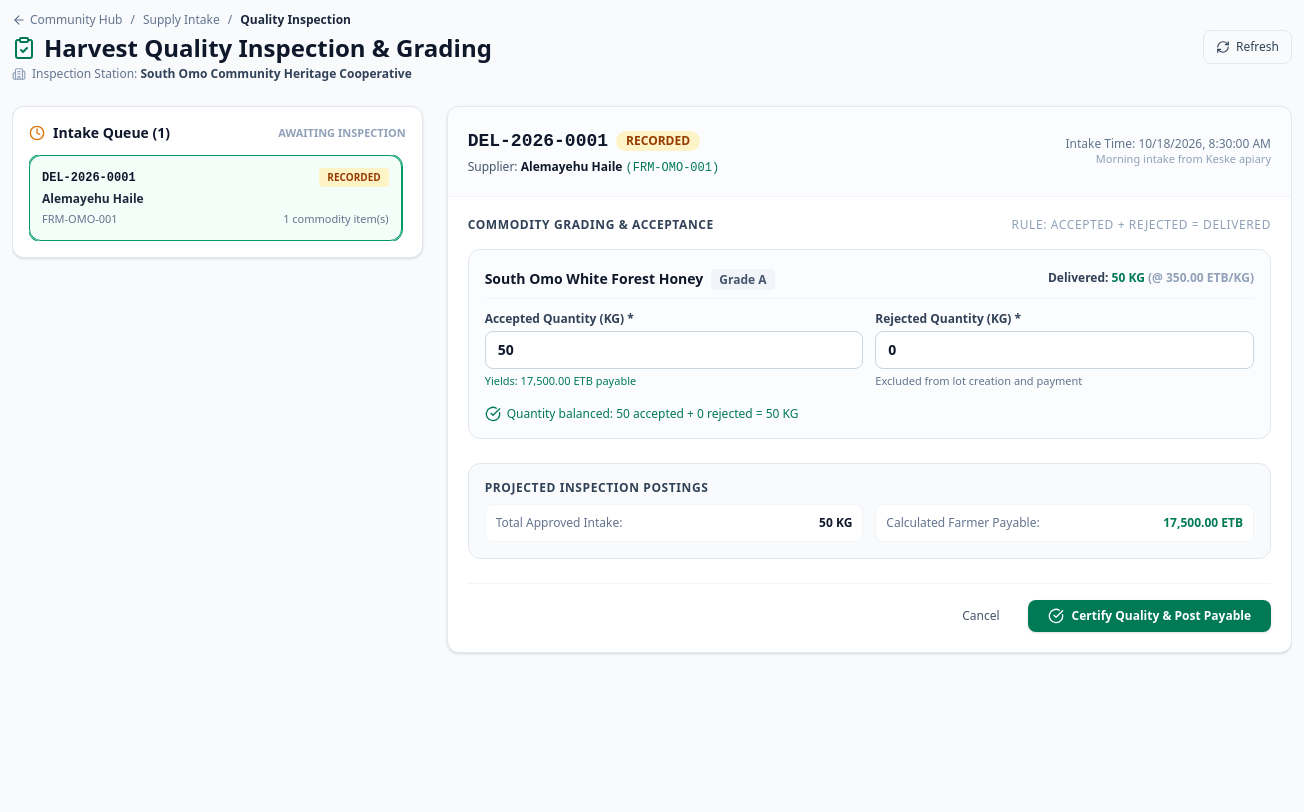
Test case: Quality Inspection & Grading Screen (F-805) › displays live error and disables submit when accepted + rejected != delivered sum
# Deliberately set mismatch: delivered is 50, set accepted to 30 and rejected to 10 (sum 40)
Replace the text in the number field with test id "accepted-qty-input-0" with "30" at {"x": 674, "y": 350}, box [485, 331, 863, 369]
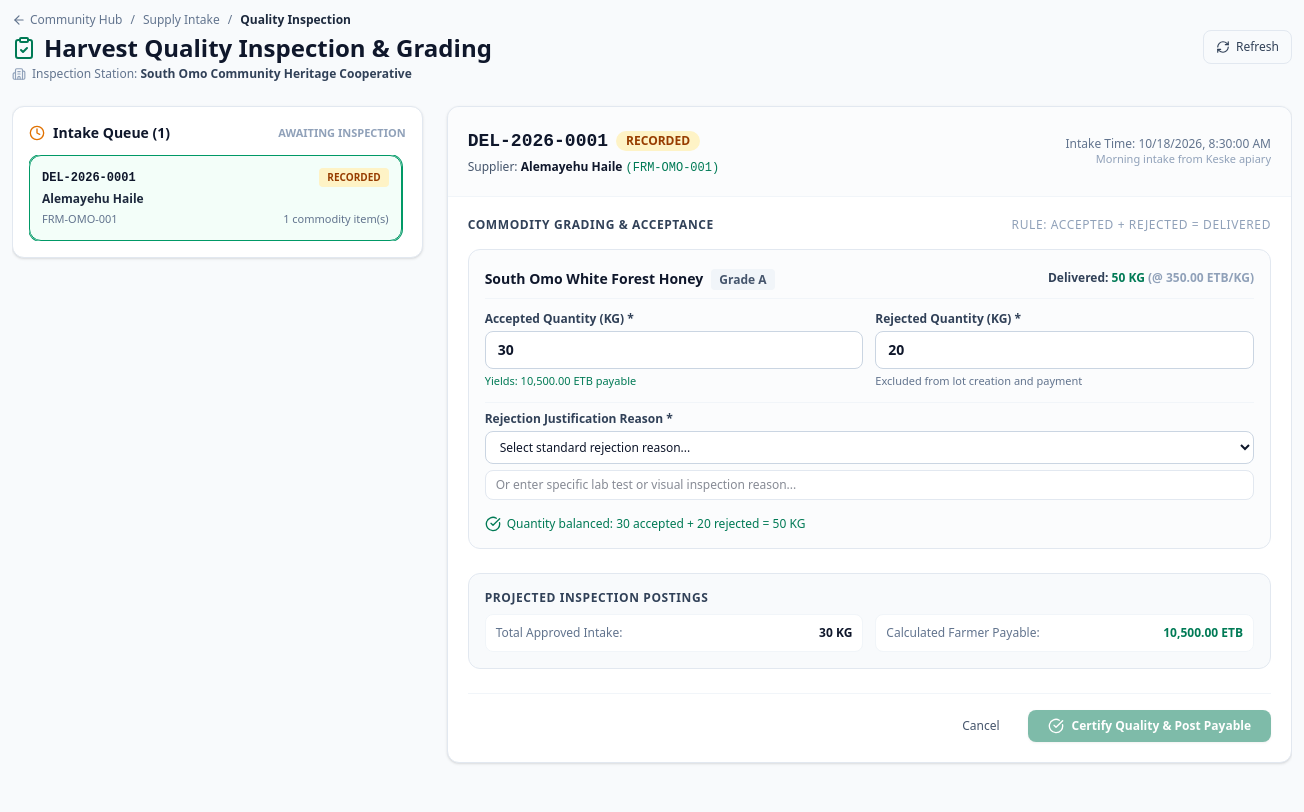
Replace the text in the number field with test id "rejected-qty-input-0" with "10" at {"x": 1065, "y": 350}, box [875, 331, 1254, 369]
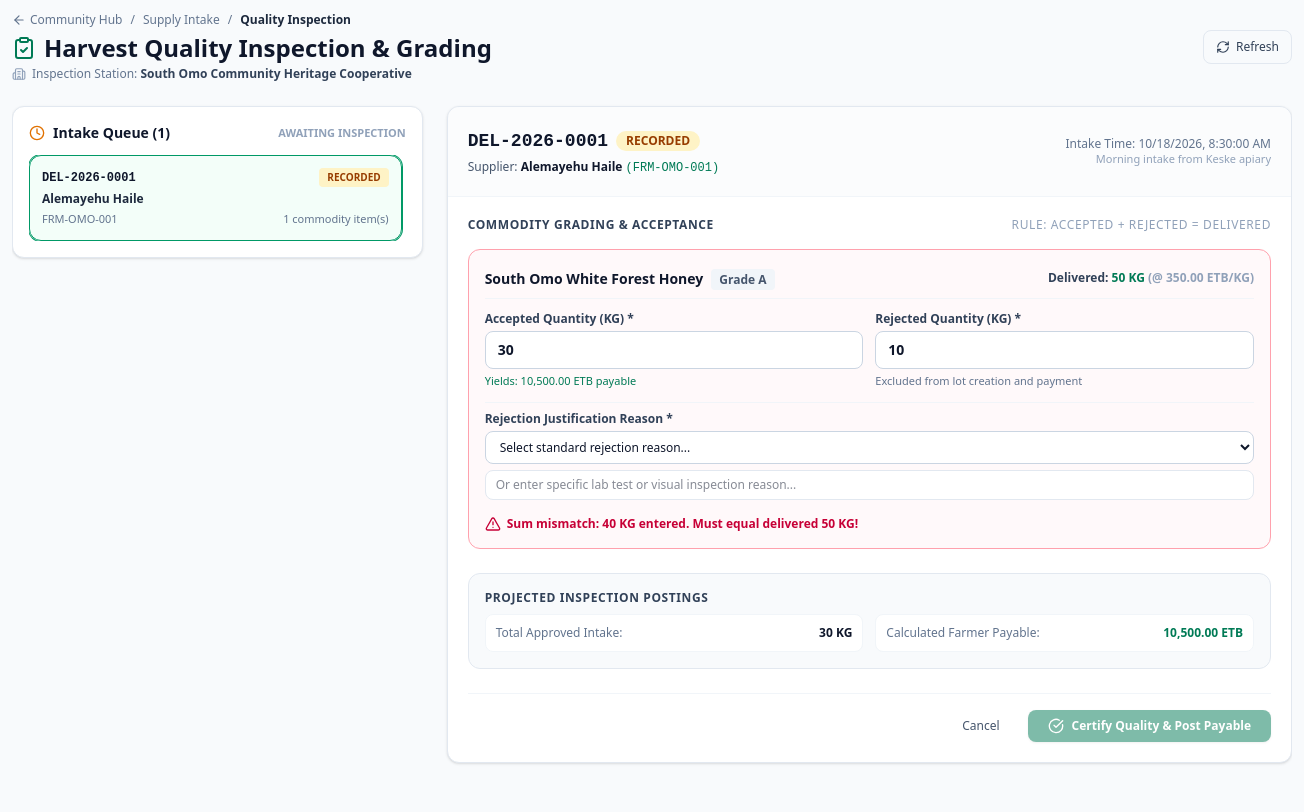
Check: the button with test id "submit-inspection-button" is disabled, box [1028, 710, 1271, 742]
Check: the element with test id "sum-mismatch-warning-0" is shown, box [485, 516, 858, 532]
Check: the text "Sum mismatch: 40 KG entered. Must equal delivered 50 KG!" is shown, box [507, 516, 858, 532]
